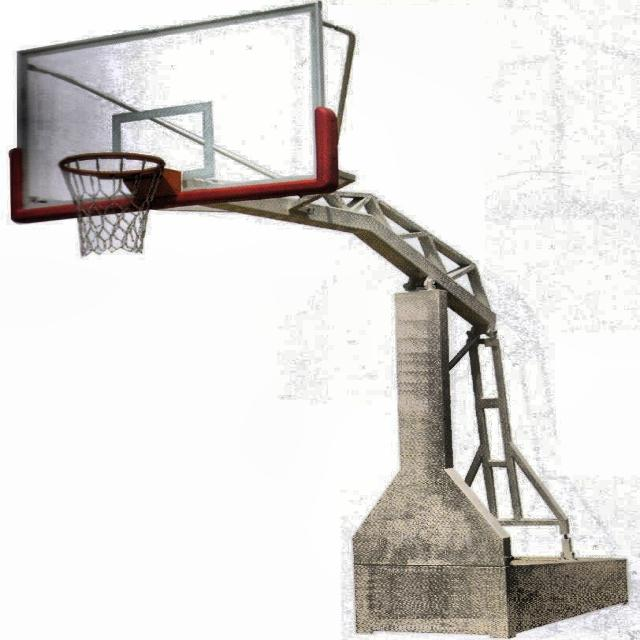rim: (62, 154, 167, 256)
